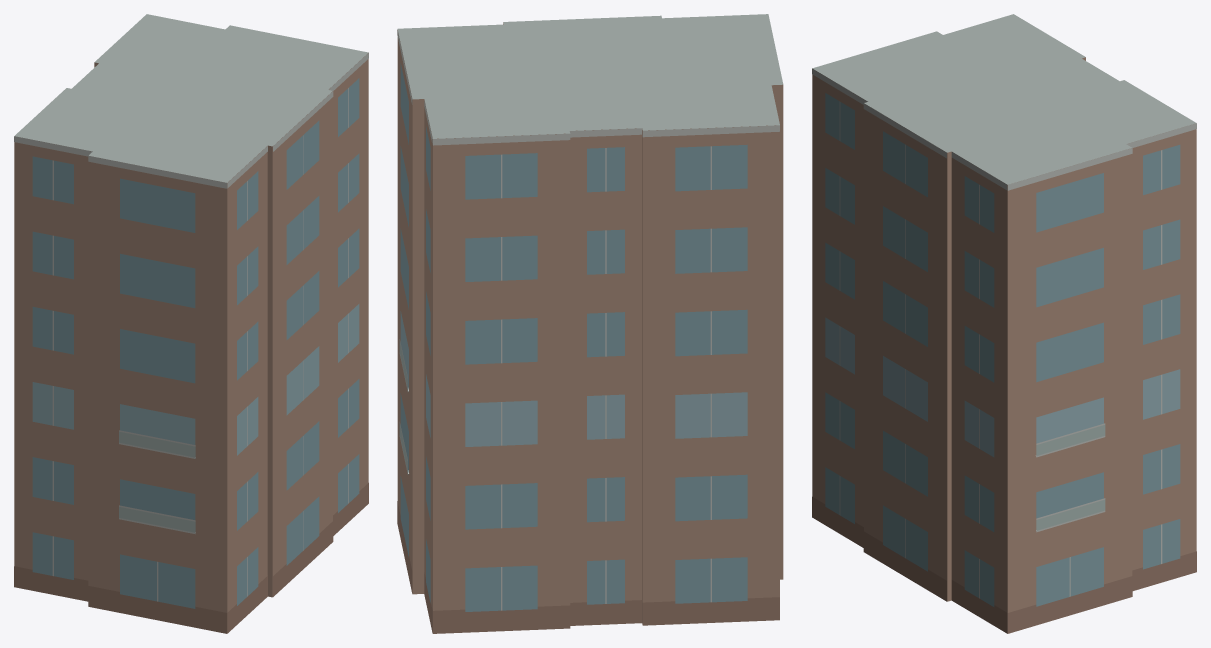
The model's file is survey-upis-32759741.glb.
3 views of the same model, side by side, from view 1: azimuth 30°, elevation 25°; view 2: azimuth 150°, elevation 25°; view 3: azimuth 270°, elevation 25° (orthographic). The views are drawn at different scales.
Visible parts, largest first — view 1: survey-upis-32759741.tmp; view 2: survey-upis-32759741.tmp; view 3: survey-upis-32759741.tmp.
Part boxes in pixels (box(x1,y1,x2,y2)): survey-upis-32759741.tmp: box(14, 14, 368, 633); survey-upis-32759741.tmp: box(397, 14, 783, 633); survey-upis-32759741.tmp: box(812, 14, 1196, 633).
Size of the model in its own units: 15.02 by 18.4 by 14.29.
